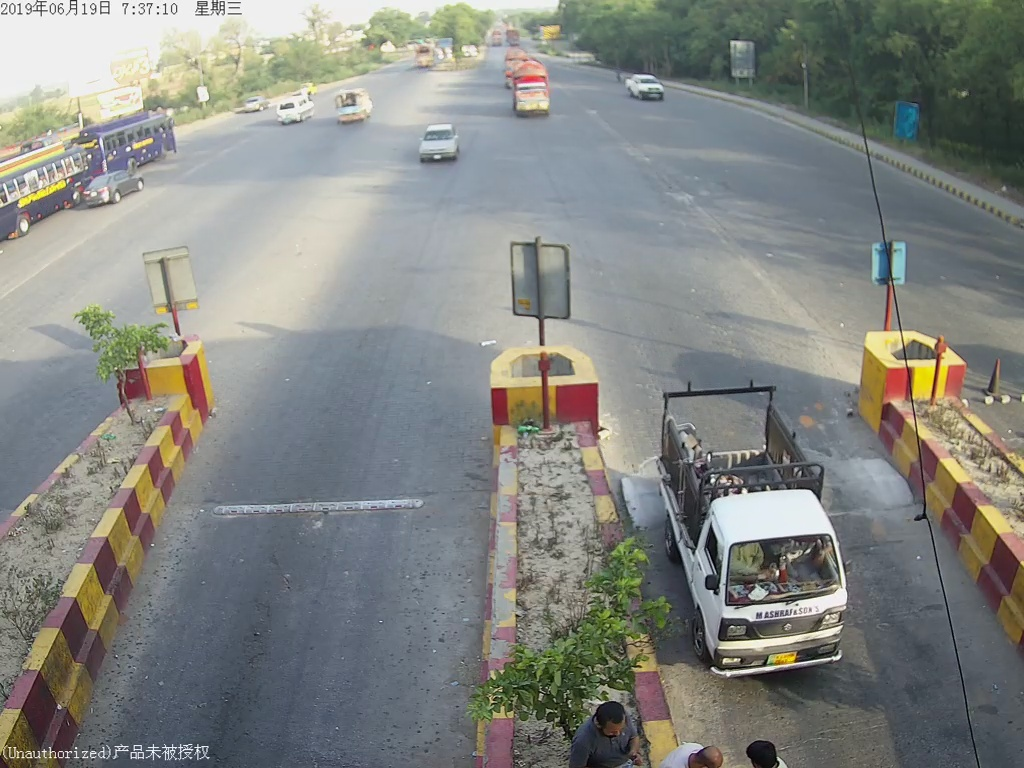Cat-1: (657, 374, 866, 676), (415, 118, 462, 166), (622, 65, 668, 104)
Cat-4: (508, 56, 559, 120)
